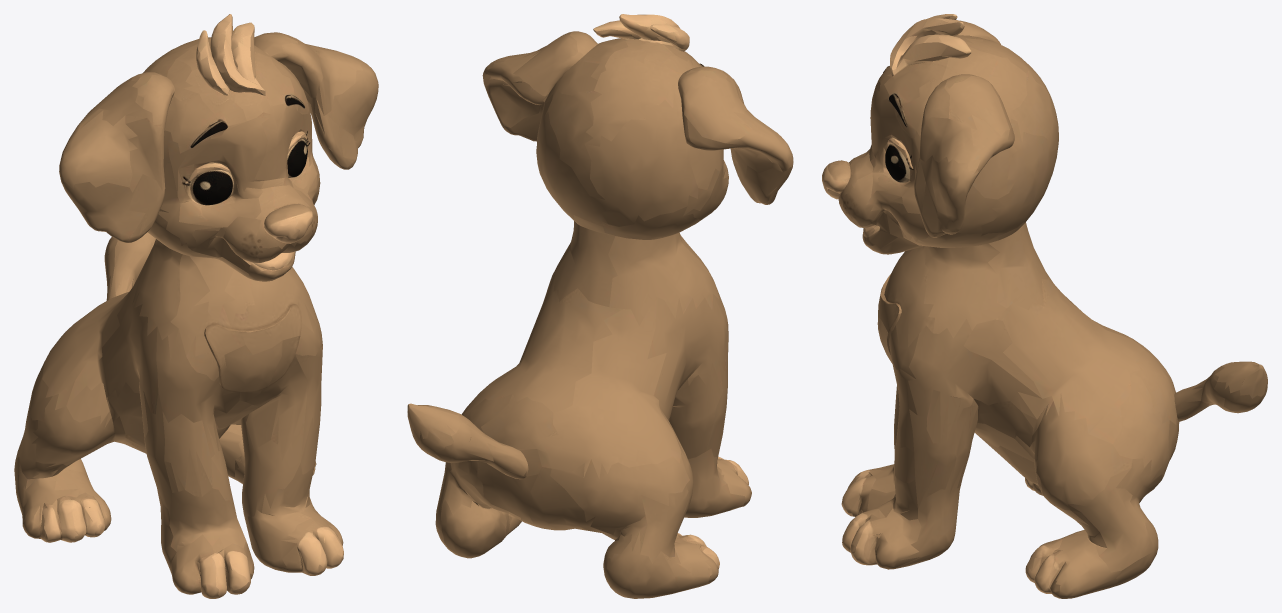
File: sheru.e0e039ec.glb
The picture shows the model from 3 angles, left to right: view 1: azimuth 30°, elevation 25°; view 2: azimuth 150°, elevation 25°; view 3: azimuth 270°, elevation 25°; orthographic projection. The views are drawn at different scales.
Visible parts, largest first — view 1: output_unwrapped; view 2: output_unwrapped; view 3: output_unwrapped.
Boxes of the visible parts, box(x1,y1,x2,y2) form: output_unwrapped: box(14, 14, 378, 598); output_unwrapped: box(407, 14, 793, 598); output_unwrapped: box(822, 14, 1267, 598).
Bounding box in the file's own units: 1.2 × 1.9 × 1.48.
Materials: 1 (1 with a texture image).
